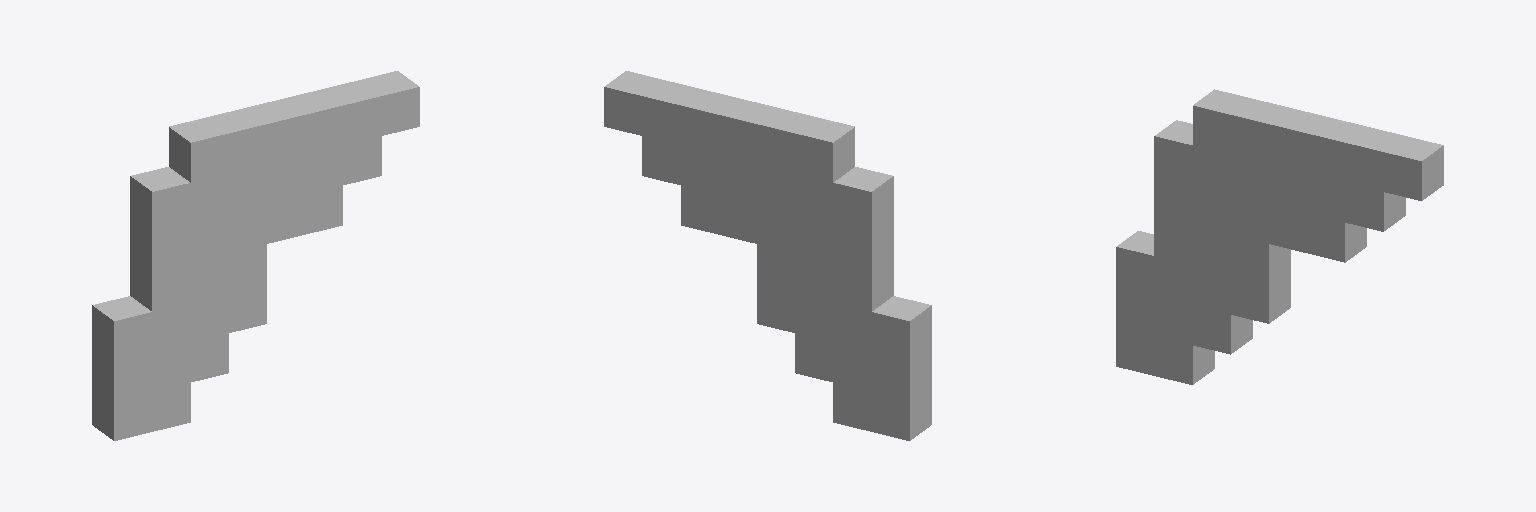
Rendered from bat wing 1.obj.
The picture shows the model from 3 angles: view 1: azimuth 30°, elevation 25°; view 2: azimuth 150°, elevation 25°; view 3: azimuth 330°, elevation 25°; orthographic projection.
Size of the model in its own units: 8 by 7 by 1.